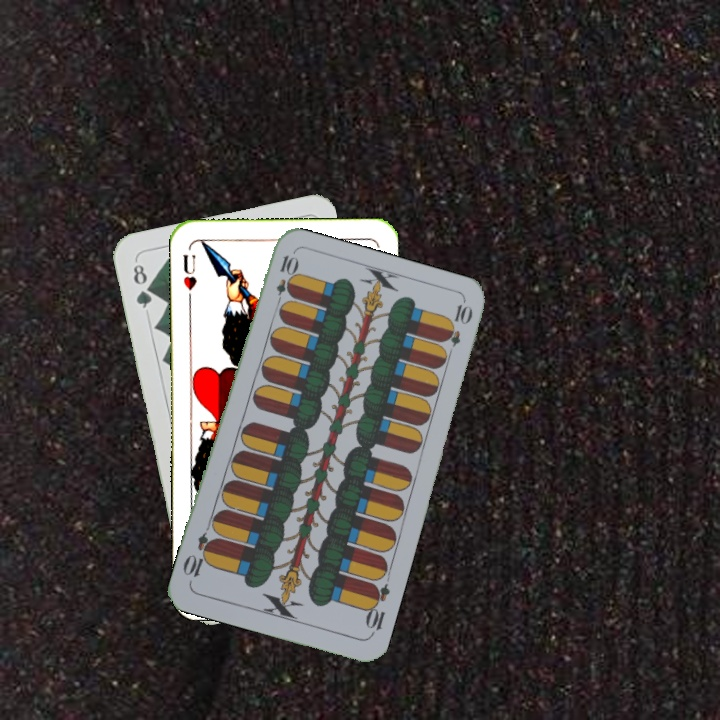E10: (361, 579, 393, 639), (271, 251, 298, 310)
G8: (129, 260, 155, 311)
HU: (179, 250, 199, 303)
